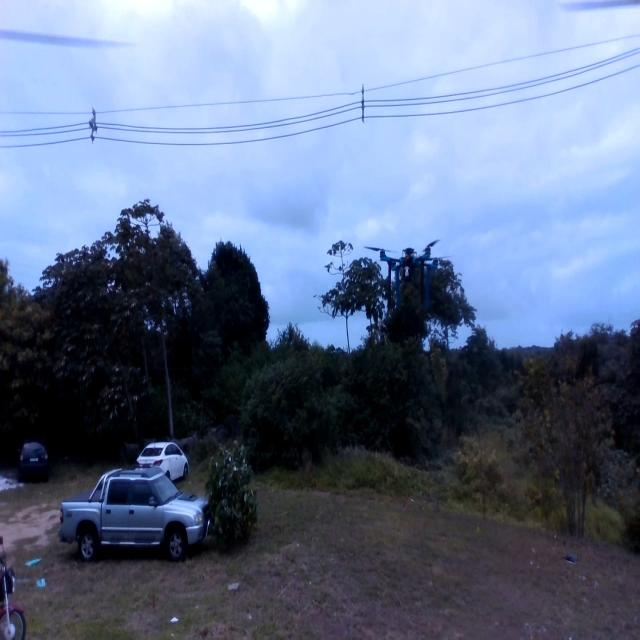-uav-: (363, 225, 446, 319)
